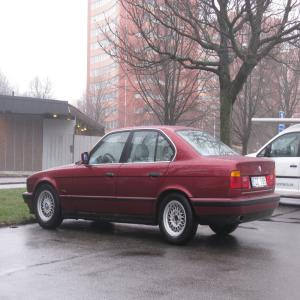Vehicle-registration-plate: (251, 176, 270, 188)
